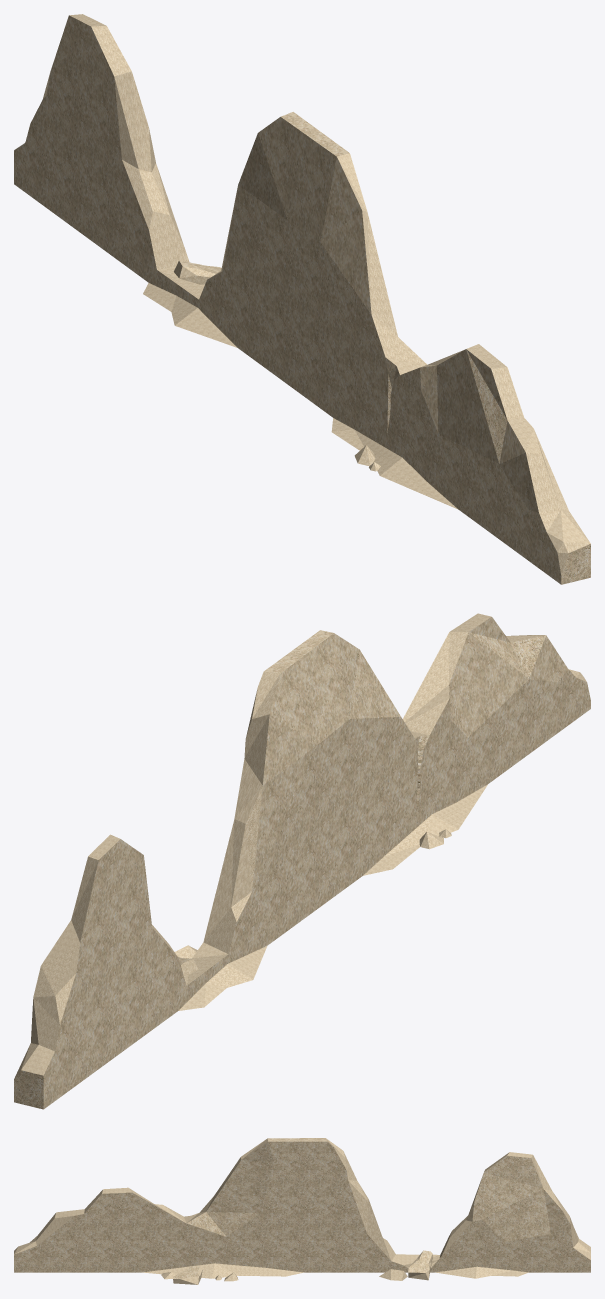
The model's file is thm_tato_imprv_wall_ruin_s01_l1.fbx.
The picture shows the model from 3 angles, top to bottom: view 1: azimuth 30°, elevation 25°; view 2: azimuth 150°, elevation 25°; view 3: azimuth 270°, elevation 25°; orthographic projection. The views are drawn at different scales.
Parts seen in each view (by area): view 1: mesh_node; view 2: mesh_node; view 3: mesh_node.
Part boxes in pixels (x1=…): mesh_node: x1=14, y1=14, x2=590, y2=584; mesh_node: x1=14, y1=613, x2=590, y2=1109; mesh_node: x1=14, y1=1138, x2=590, y2=1284.
Bounding box in the file's own units: 1.8 × 4 × 16.
